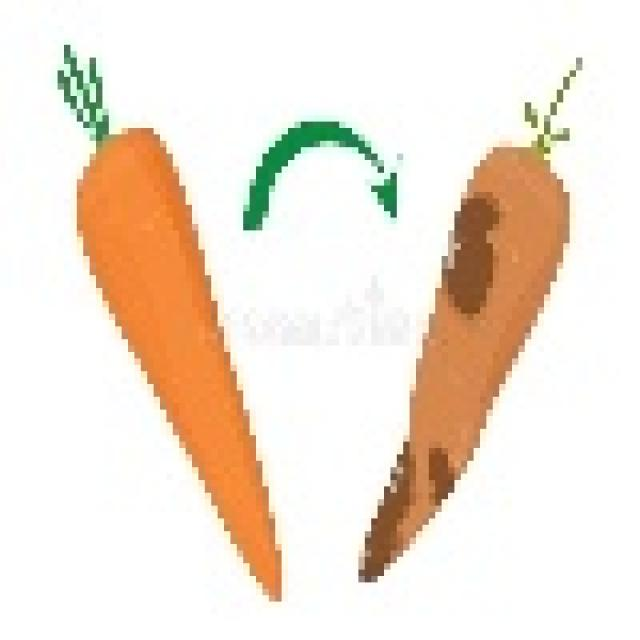Stale_Carrot: (339, 90, 591, 577)
